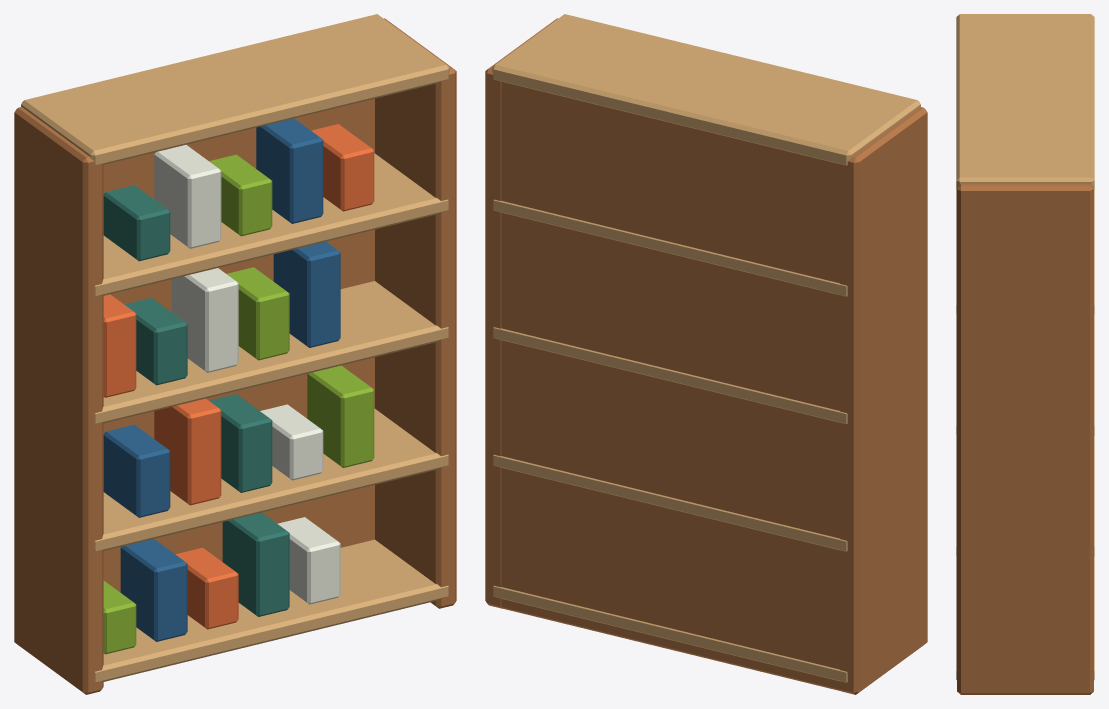
File: bookcase.glb
The picture shows the model from 3 angles, left to right: view 1: azimuth 30°, elevation 25°; view 2: azimuth 150°, elevation 25°; view 3: azimuth 270°, elevation 25°; orthographic projection. The views are drawn at different scales.
Parts seen in each view (by area): view 1: Fundo, Prateleira, Livro.001, Livro.004, Livro.003, Livro.002, Livro; view 2: Fundo, Prateleira; view 3: Fundo, Prateleira.
Boxes of the visible parts, x1,y1,x2,y2 form: Fundo: (14, 18, 456, 694); Prateleira: (21, 14, 449, 682); Livro.001: (103, 118, 340, 641); Livro.004: (154, 145, 340, 604); Livro.003: (103, 185, 289, 616); Livro.002: (103, 124, 374, 629); Livro: (103, 154, 374, 654); Fundo: (485, 18, 927, 694); Prateleira: (492, 14, 920, 682); Fundo: (957, 184, 1093, 694); Prateleira: (956, 14, 1094, 679).
Size of the model in its own units: 1.16 by 1.62 by 0.394.
